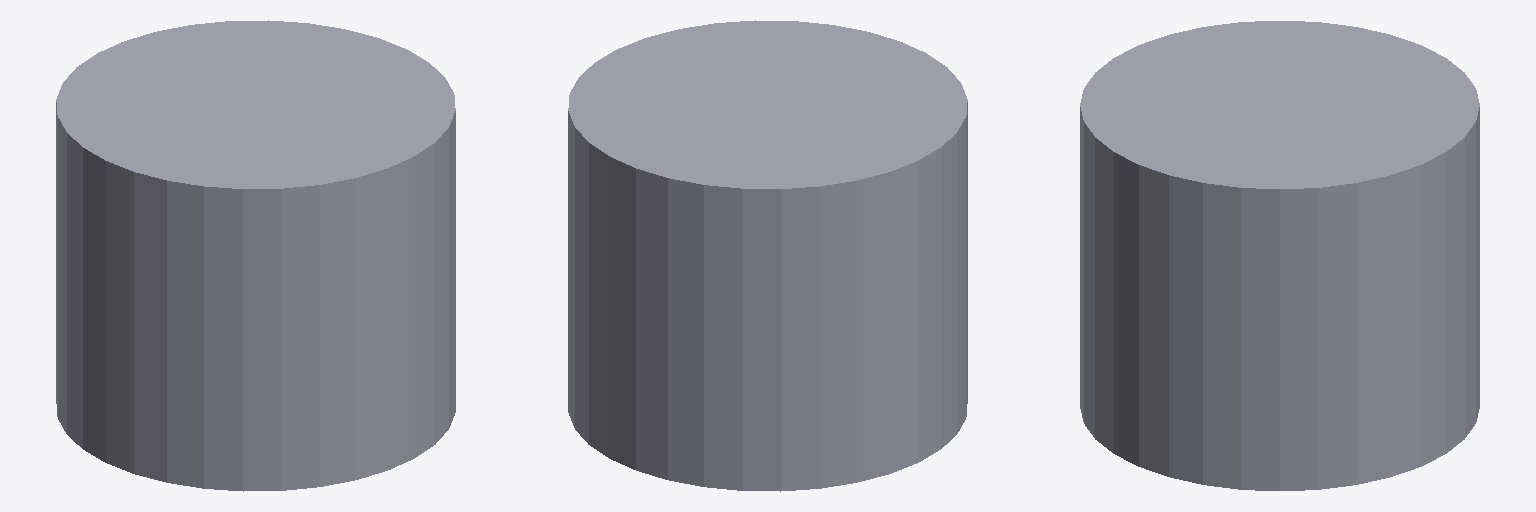
The robot description file, URDF, robot "cylinder_small_workpiece":
<?xml version="1.0"?>
<!--
  Small Cylinder Workpiece URDF
  =============================
  A graspable cylindrical workpiece for testing the grasp sampling pipeline.
  This is a standalone URDF (no xacro processing required).

  Workpiece specifications:
  - Radius:   150mm (0.150m)
  - Diameter: 300mm (0.300m)  ← well within gripper range (60mm–360mm)
  - Height:   250mm (0.250m)
  - Cylinder axis along Z (URDF convention for <cylinder>)

  Origin is at the geometric center of the cylinder.

  When placed with center at (1.2, 0.0, 0.125):
    → bottom circular face sits flush on z = 0.0 (ground plane)
    → top circular face at z = 0.25
    → cylinder axis: z ∈ [0.0, 0.25]
    → radial extent: x ∈ [1.05, 1.35], y ∈ [-0.15, 0.15]

  Graspable surface pairs with test_gripper (60mm–360mm opening):
  - Curved side vs curved side: diameter = 300mm ✓  MAIN TARGET
    ShapeRefiner will split curved surface into arc patches;
    opposing patches are ~300mm apart (within gripper range).
  - Top flat vs bottom flat: height = 250mm ✓
    (bottom face banned by ground plane)

  Coordinate system: meters. Frame: world.
-->
<robot name="cylinder_small_workpiece">

  <link name="base_link">
    <visual>
      <origin xyz="0 0 0" rpy="0 0 0"/>
      <geometry>
        <cylinder radius="0.150" length="0.250"/>
      </geometry>
      <material name="steel">
        <color rgba="0.7 0.7 0.75 1.0"/>
      </material>
    </visual>
    <collision>
      <origin xyz="0 0 0" rpy="0 0 0"/>
      <geometry>
        <cylinder radius="0.150" length="0.250"/>
      </geometry>
    </collision>
    <inertial>
      <mass value="9.0"/>
      <origin xyz="0 0 0" rpy="0 0 0"/>
      <!--
        Solid cylinder inertia:
          Ixx = Iyy = (1/12) * m * (3*r^2 + h^2)
                    = (1/12) * 9 * (3*0.150^2 + 0.250^2)
                    = (1/12) * 9 * (0.0675 + 0.0625)
                    = (1/12) * 9 * 0.1300
                    = 0.09750
          Izz = (1/2) * m * r^2
              = (1/2) * 9 * 0.150^2
              = 0.10125
      -->
      <inertia ixx="0.09750" ixy="0.0" ixz="0.0"
               iyy="0.09750" iyz="0.0"
               izz="0.10125"/>
    </inertial>
  </link>

</robot>

--- What the picture shows (computed from the rendered views, not written in the file) ---
Views: 3 orthographic renders of the robot side by side, from view 1: azimuth 30°, elevation 25°; view 2: azimuth 150°, elevation 25°; view 3: azimuth 270°, elevation 25°.
Robot: cylinder_small_workpiece — 1 links, 0 joints (none); root link base_link; default pose: every joint at zero.
Visible links, largest first — view 1: base_link; view 2: base_link; view 3: base_link.
Link boxes in pixels (x1,y1,x2,y2): base_link: [56, 20, 455, 491]; base_link: [568, 20, 967, 491]; base_link: [1080, 21, 1479, 490].
Size in the robot's own frame: 0.3 by 0.3 by 0.25 metres.
Geometry: primitives only (box / cylinder / sphere), no mesh files.
